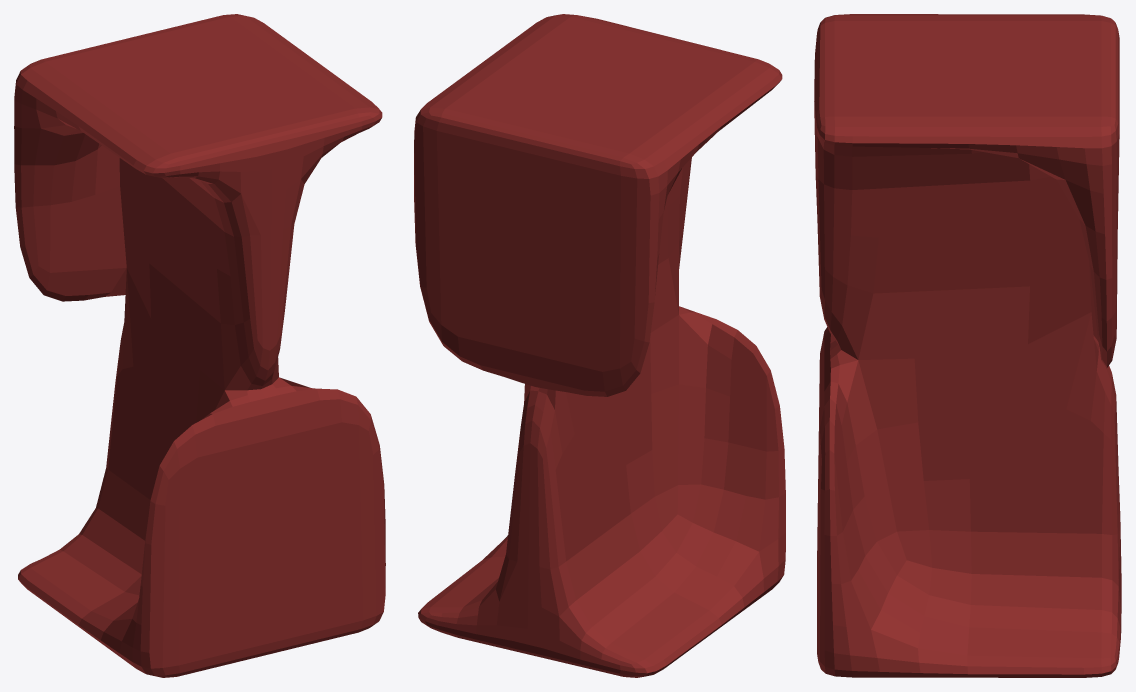
Rendered from steel_connector_u.fbx.
The picture shows the model from 3 angles, left to right: view 1: azimuth 30°, elevation 25°; view 2: azimuth 150°, elevation 25°; view 3: azimuth 270°, elevation 25°; orthographic projection. The views are drawn at different scales.
Visible parts, largest first — view 1: Cube.002; view 2: Cube.002; view 3: Cube.002.
Boxes of the visible parts, x1,y1,x2,y2 form: Cube.002: (14, 14, 385, 677); Cube.002: (414, 14, 785, 677); Cube.002: (814, 14, 1121, 677).
Size of the model in its own units: 97.81 by 198 by 99.67.
